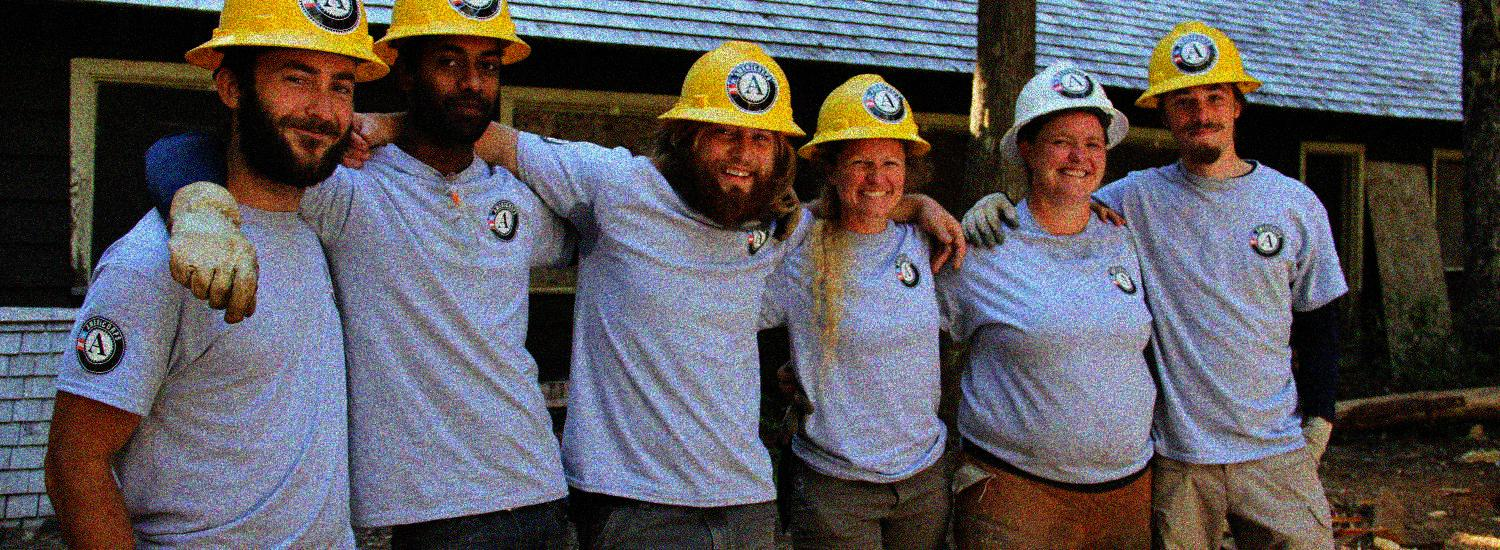helmet: (186, 1, 388, 182), (657, 36, 807, 224), (370, 1, 533, 133), (796, 62, 936, 214), (1134, 17, 1264, 164), (1000, 61, 1132, 203)
